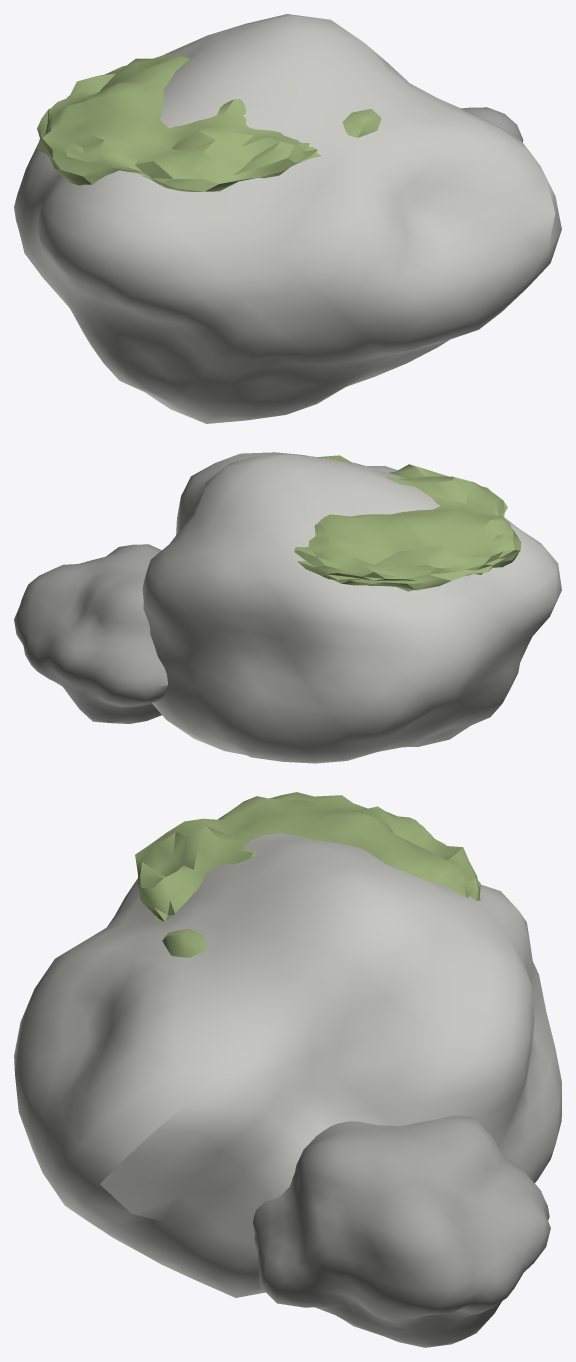
The model's file is rock.glb.
3 renders of one model, top to bottom at view 1: azimuth 30°, elevation 25°; view 2: azimuth 150°, elevation 25°; view 3: azimuth 270°, elevation 25°, orthographic. The views are drawn at different scales.
Visible parts, largest first — view 1: rock; view 2: rock; view 3: rock.
Boxes of the visible parts, bbox=[...] form: rock: bbox=[14, 14, 561, 423]; rock: bbox=[14, 452, 561, 763]; rock: bbox=[14, 792, 561, 1347].
Size of the model in its own units: 2.59 by 1.51 by 1.89.
